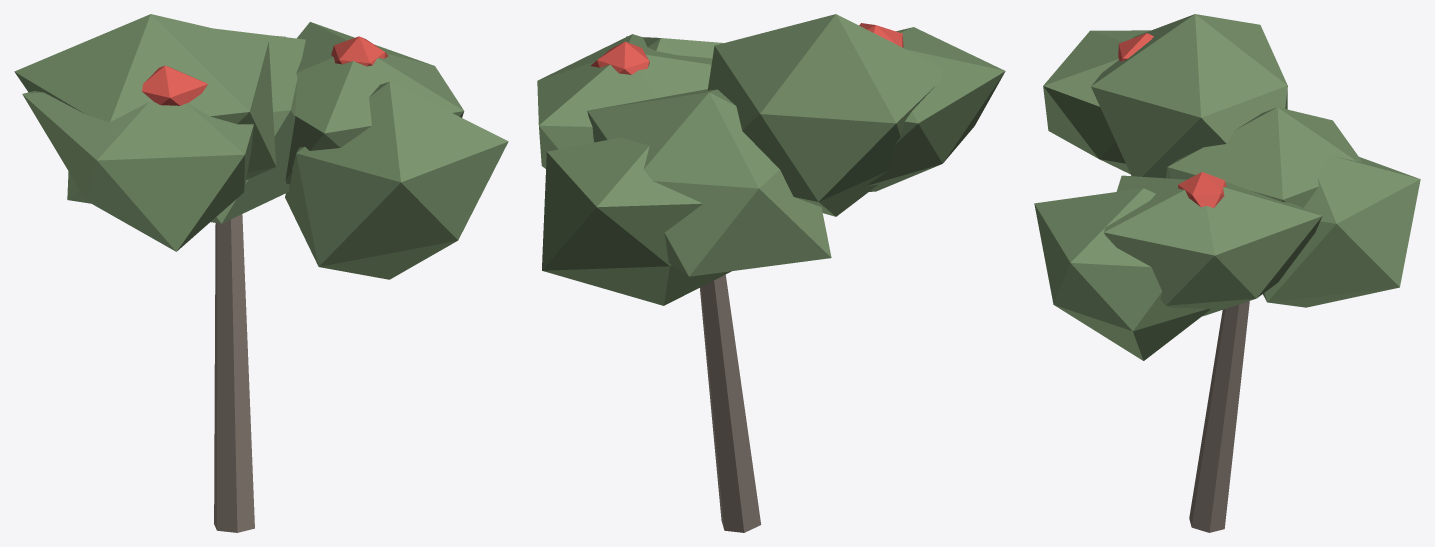
File: Ohia.glb
3 views of the same model, side by side, from view 1: azimuth 30°, elevation 25°; view 2: azimuth 150°, elevation 25°; view 3: azimuth 270°, elevation 25° (orthographic). The views are drawn at different scales.
Visible parts, largest first — view 1: Crown.004, Crown.002, Crown, Member.011, Crown.003, Crown.001, Lehua.001, Lehua.002; view 2: Crown, Crown.001, Crown.005, Crown.003, Crown.002, Member.011, Lehua.002, Crown.004; view 3: Crown, Crown.003, Crown.004, Crown.005, Crown.001, Member.011, Crown.002, Lehua.002, Lehua.001.
Part boxes in pixels (left/top/right/bottom): Crown.004: left=285, top=81, right=508, bottom=279; Crown.002: left=22, top=91, right=253, bottom=251; Crown: left=14, top=14, right=276, bottom=179; Member.011: left=214, top=214, right=254, bottom=532; Crown.003: left=285, top=22, right=464, bottom=184; Crown.001: left=67, top=28, right=306, bottom=223; Lehua.001: left=142, top=65, right=207, bottom=105; Lehua.002: left=331, top=36, right=388, bottom=66; Crown: left=707, top=14, right=944, bottom=216; Crown.001: left=587, top=89, right=831, bottom=276; Crown.005: left=542, top=137, right=731, bottom=305; Crown.003: left=537, top=34, right=712, bottom=168; Crown.002: left=866, top=27, right=1005, bottom=191; Member.011: left=700, top=274, right=761, bottom=532; Lehua.002: left=591, top=41, right=649, bottom=74; Crown.004: left=626, top=36, right=723, bottom=58; Crown: left=1091, top=14, right=1287, bottom=178; Crown.003: left=1104, top=175, right=1322, bottom=316; Crown.004: left=1034, top=188, right=1210, bottom=360; Crown.005: left=1263, top=155, right=1420, bottom=307; Crown.001: left=1166, top=107, right=1361, bottom=207; Member.011: left=1189, top=301, right=1249, bottom=532; Crown.002: left=1043, top=30, right=1150, bottom=174; Lehua.002: left=1178, top=172, right=1226, bottom=207; Lehua.001: left=1118, top=33, right=1153, bottom=61.
Size of the model in its own units: 2.99 by 3.78 by 2.79.
